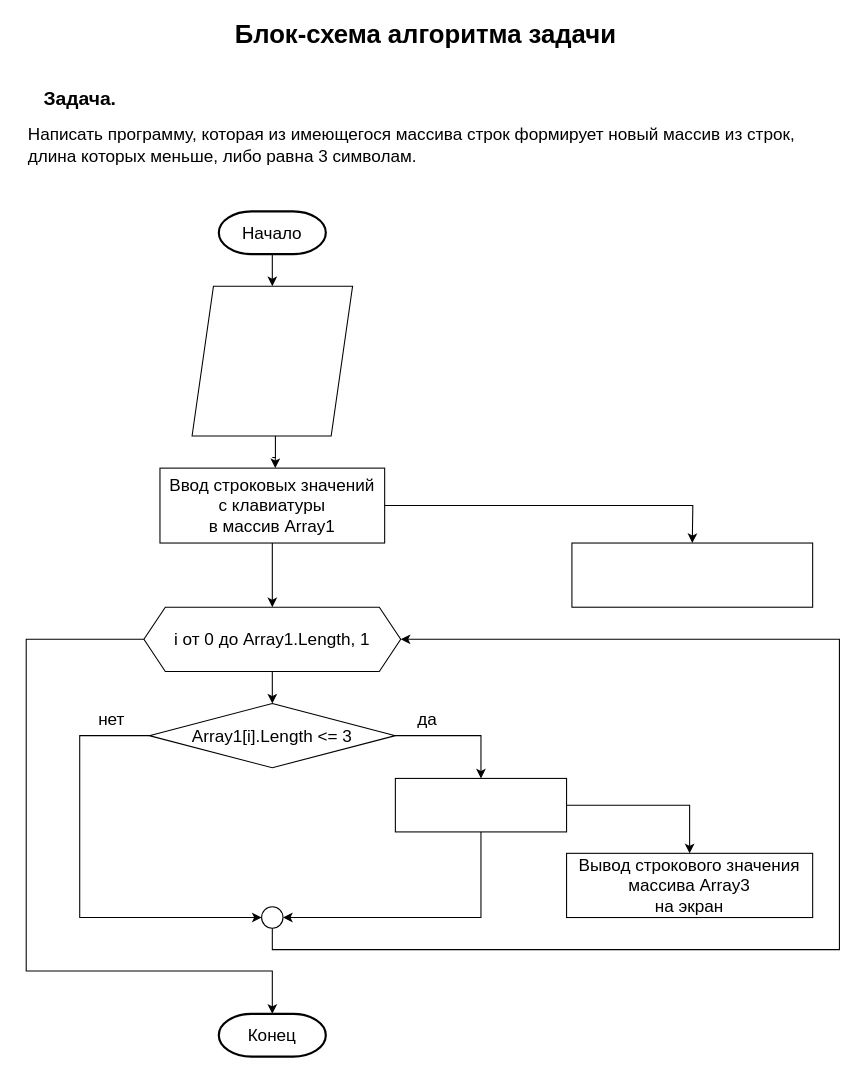
The diagram is 867 pixels wide and 1075 high, and some of its shapes have lost their labels. Each missing label, with the centre of its shape:
"Array3[j]= Array1[i]; j++" belongs at point 480,804.
"Вввод: Array1[]; Array2[]; Array3[]; str; count; j" belongs at point 272,360.
"Вывод строковых значений массива Array1 на экран" belongs at point 692,574.
